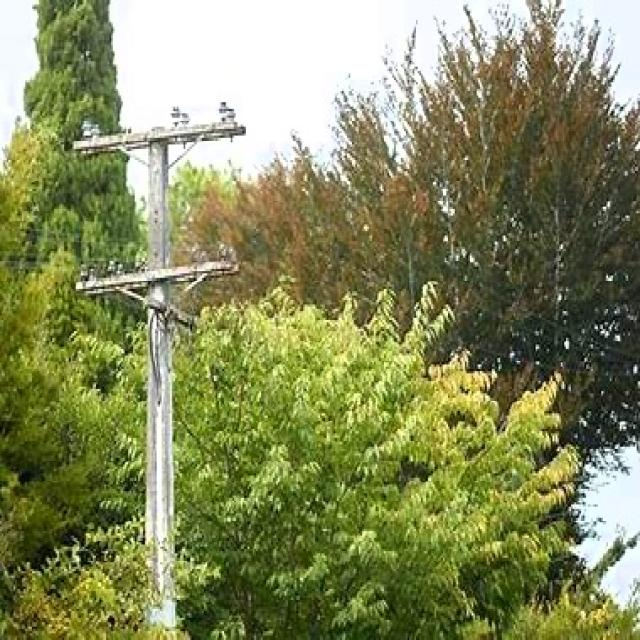utility poles: (53, 80, 257, 629)
